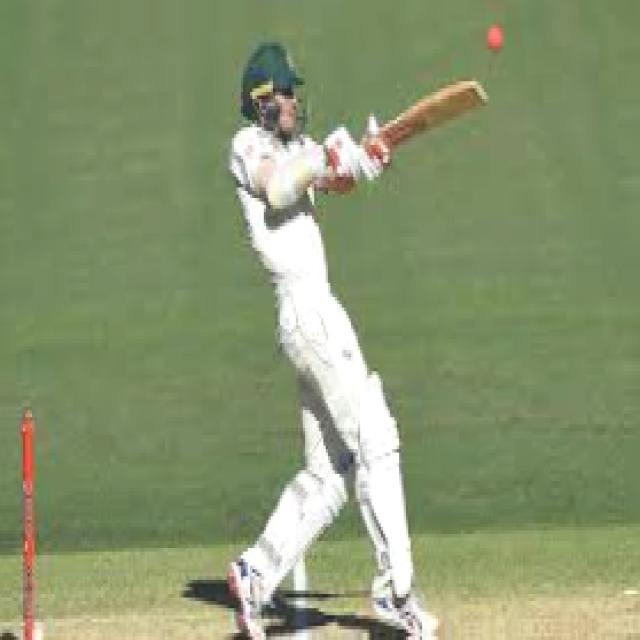toe: (467, 78, 492, 111)
